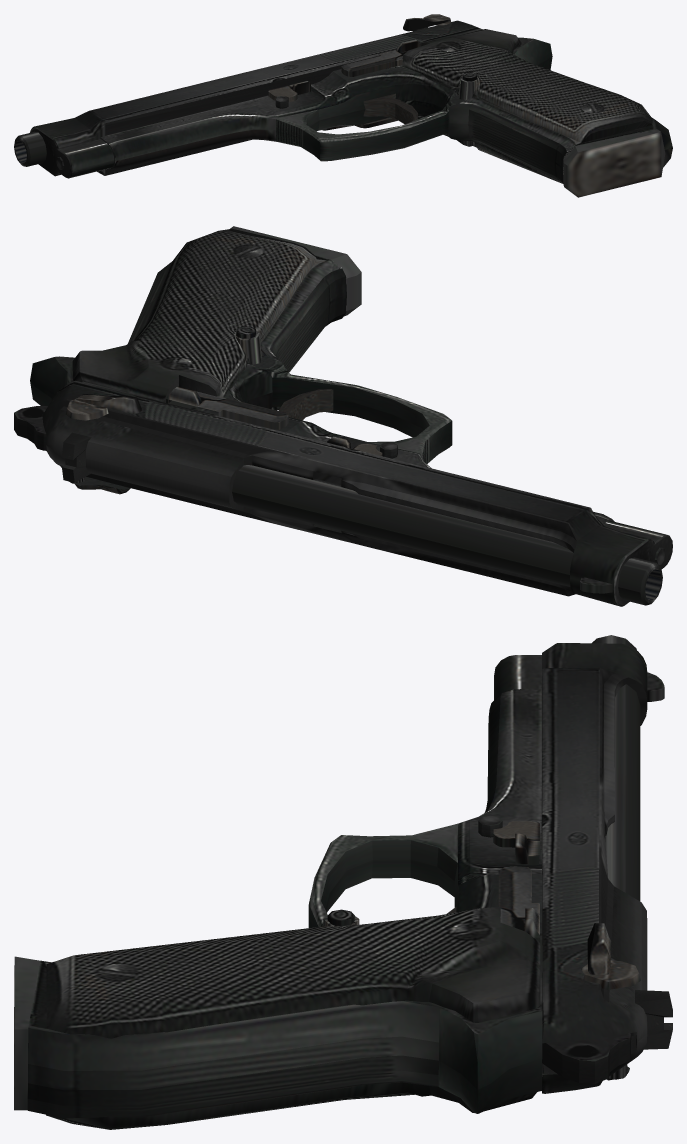
File: Gun.FBX
3 views of the same model, one above another, from view 1: azimuth 30°, elevation 25°; view 2: azimuth 150°, elevation 25°; view 3: azimuth 270°, elevation 25° (orthographic). The views are drawn at different scales.
Visible parts, largest first — view 1: Gun; view 2: Gun; view 3: Gun.
Part boxes in pixels (left/top/right/bottom): Gun: left=14, top=14, right=672, bottom=197; Gun: left=14, top=226, right=672, bottom=606; Gun: left=14, top=635, right=672, bottom=1129.
Size of the model in its own units: 22.03 by 3.28 by 14.08.
Materials: 1 (1 with a texture image).
